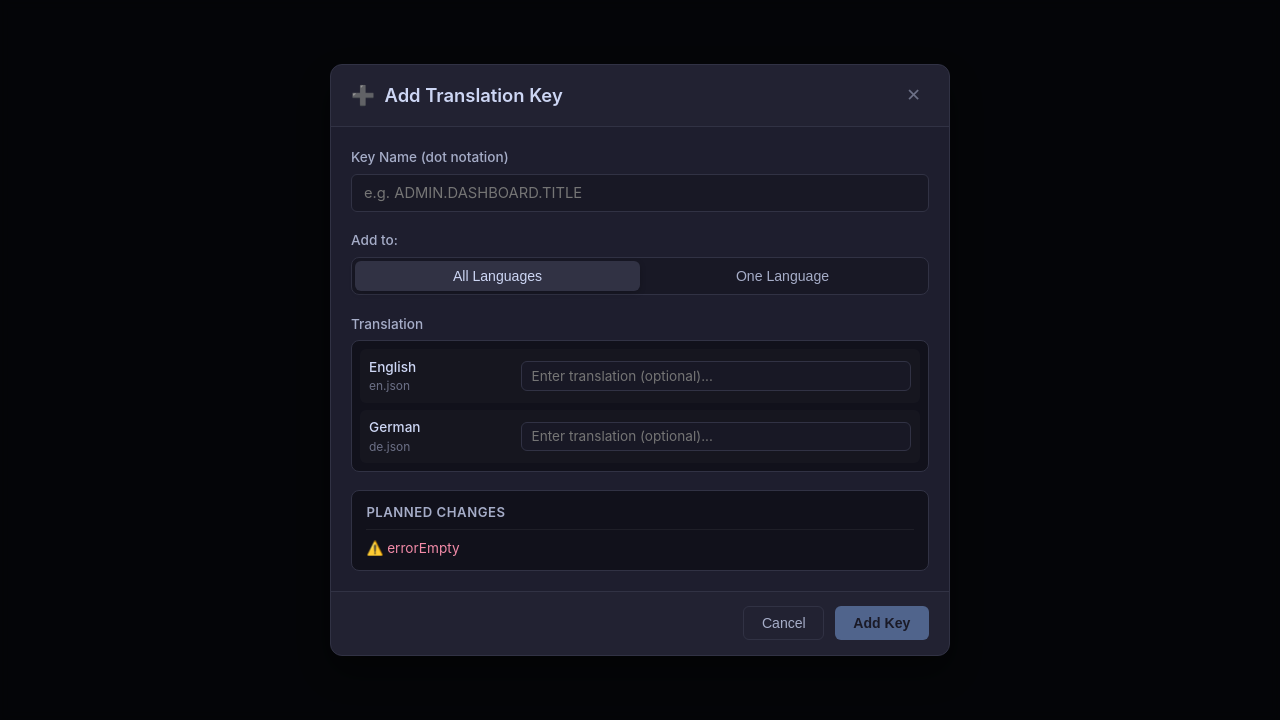
Scenario: AddTranslationKeyModal Component › validates key input live and disables confirm button when invalid
Expected: the button with test id "add-key-confirm-btn" is disabled, [835,606,929,640]
// Invalid key with consecutive dots
Step 1. Type "HEADER..TITLE" into the field with test id "add-key-input" → coordinates (640, 193), box [351,174,929,212]
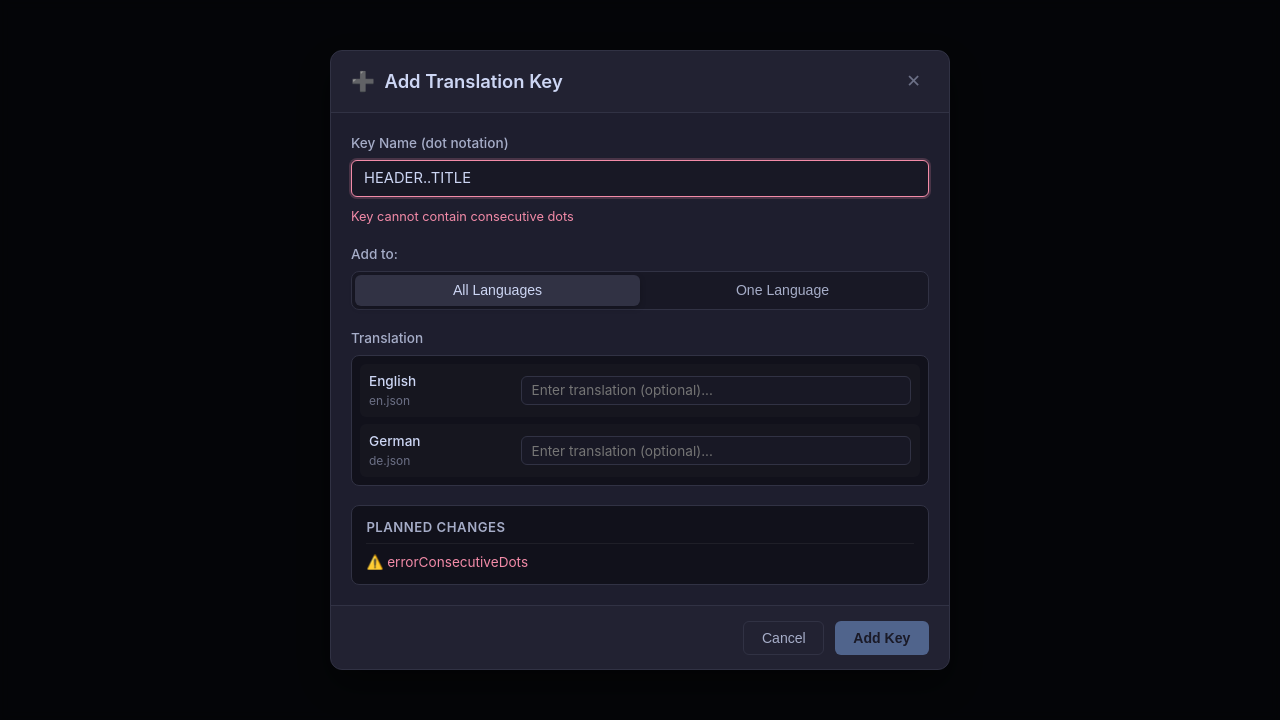
Expected: the button with test id "add-key-confirm-btn" is disabled, [835,621,929,655]
// Valid key
Step 2. Replace the text in the field with test id "add-key-input" with "HEADER.SUBTITLE" → coordinates (640, 178), box [351,160,929,197]
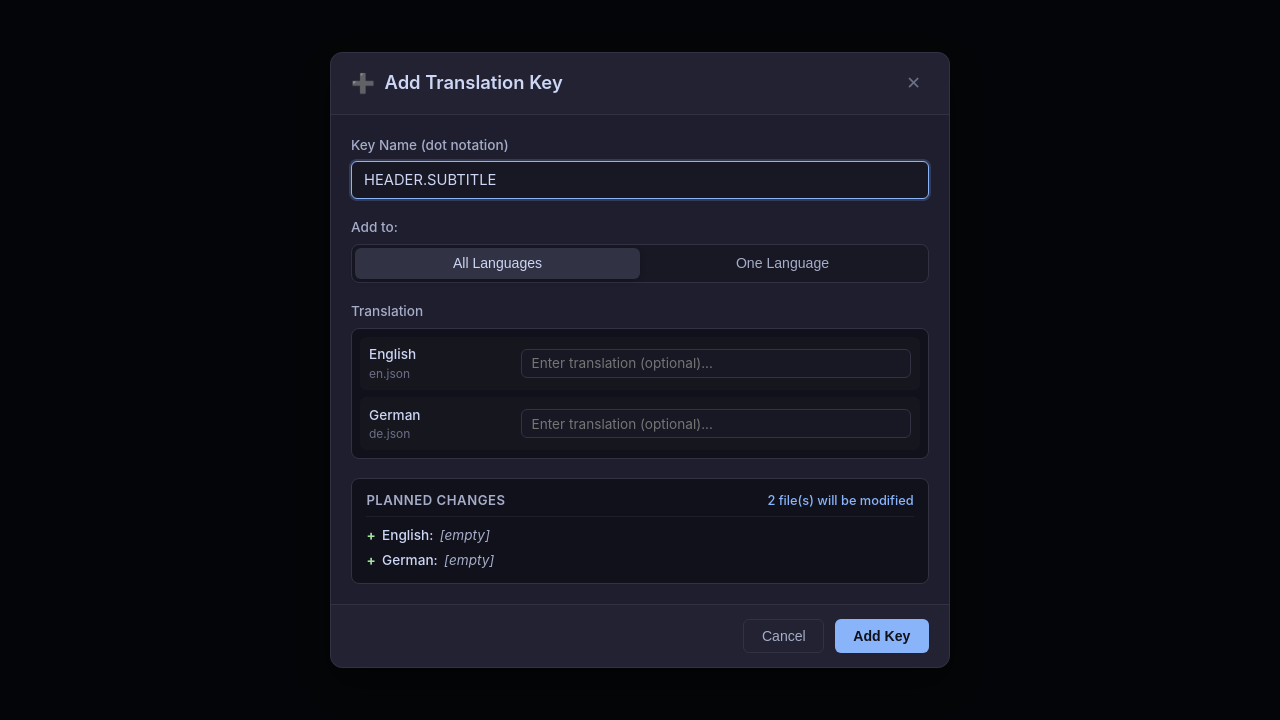
Now the button with test id "add-key-confirm-btn" is enabled, box [835,619,929,653]
